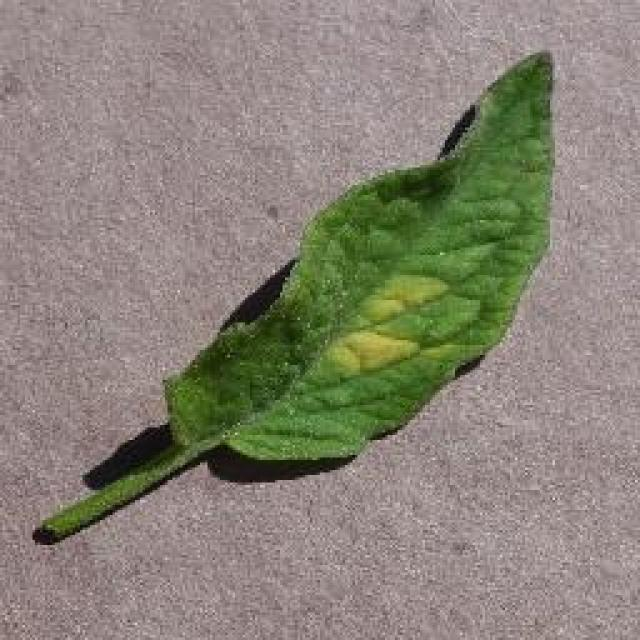Tomato___Leaf_Mold: (40, 52, 552, 540)
